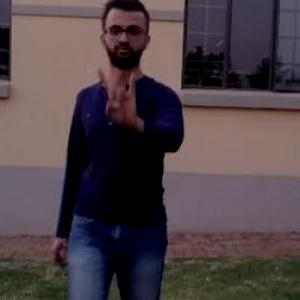takeoff-hand: (96, 60, 154, 132)
